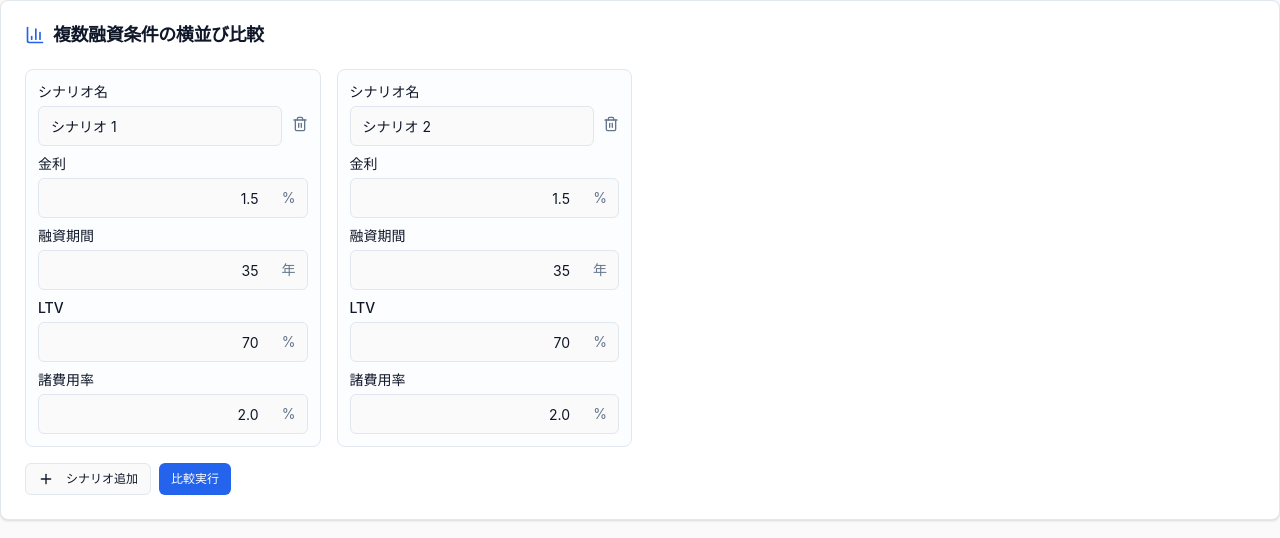
Test: LoanComparePanel › 「シナリオ追加」ボタンをクリックするとシナリオが増える
Click the button "シナリオ追加". click: (88, 479)
box: [25,463,151,495]
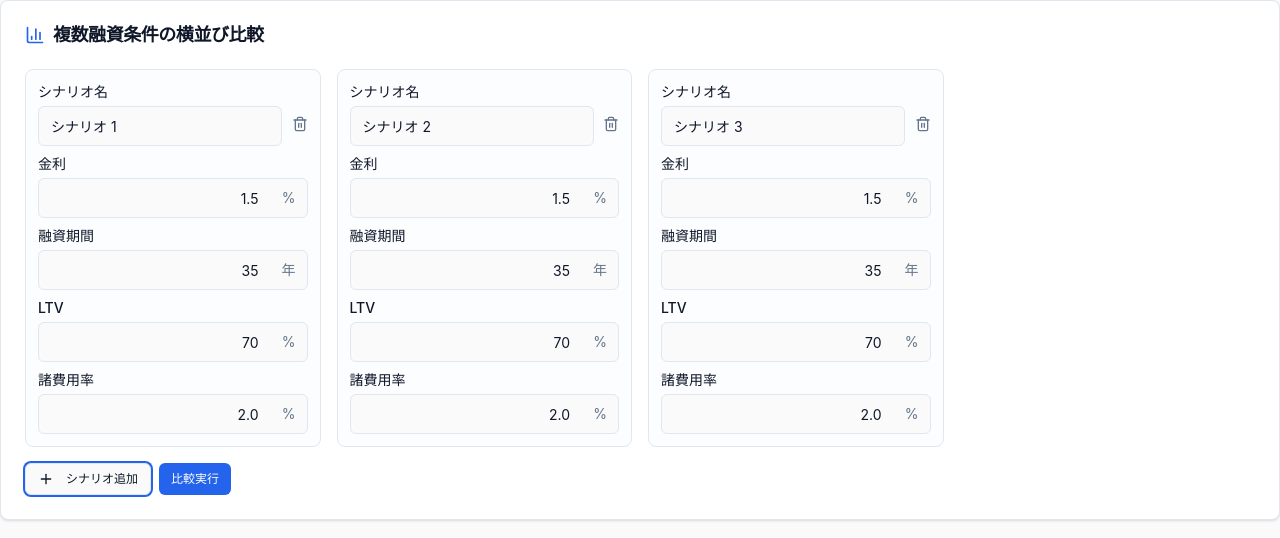
Now the 2nd field showing "シナリオ 3" is shown, box [661,106,905,146]
